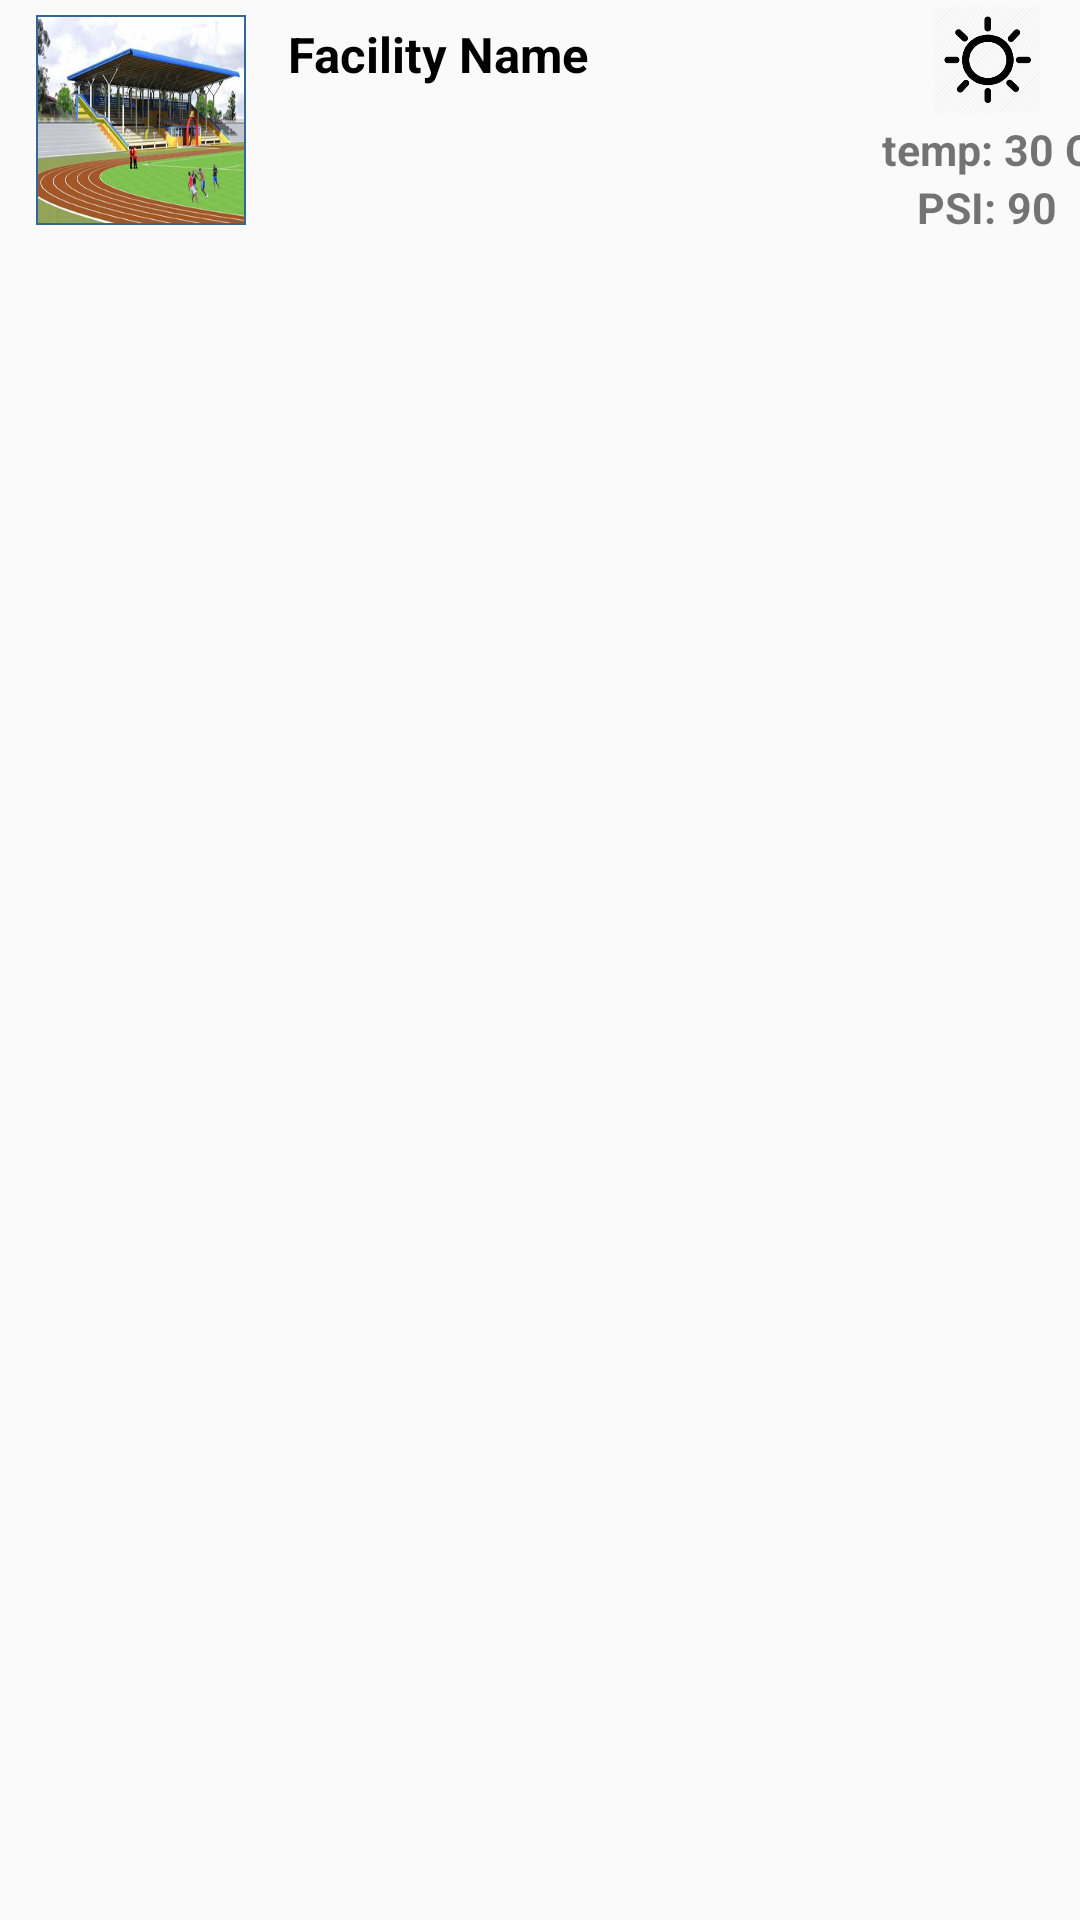

Where icons sit on this 1080 x 1920 app screen, as (x1, y1, x2, y2):
sunny: (944, 16, 1031, 103)
